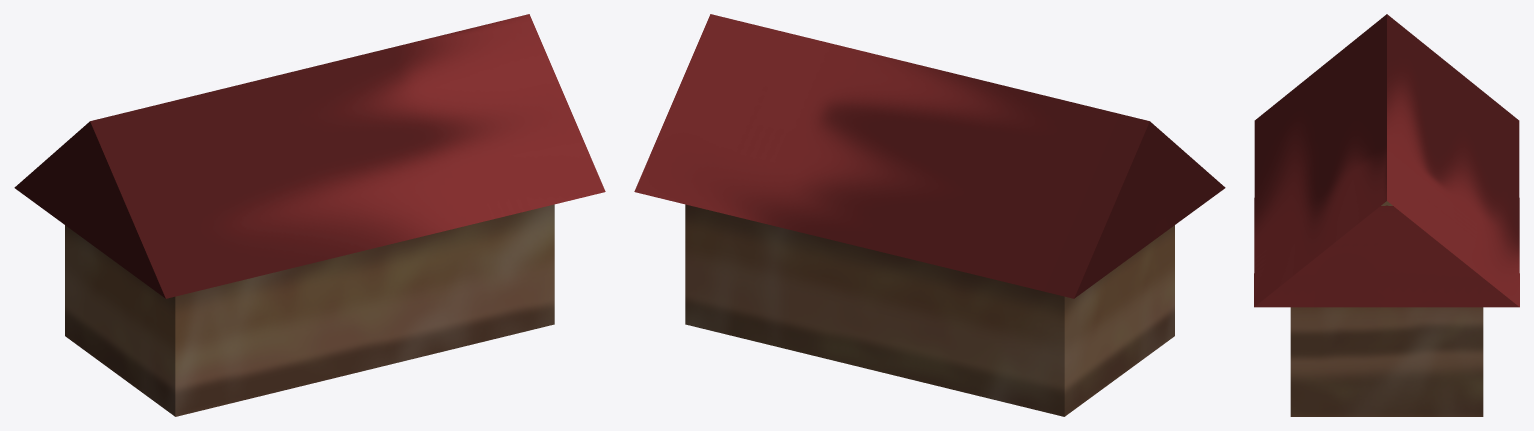
Rendered from house_exp.fbx.
3 views of the same model, side by side, from view 1: azimuth 30°, elevation 25°; view 2: azimuth 150°, elevation 25°; view 3: azimuth 270°, elevation 25° (orthographic). The views are drawn at different scales.
Visible parts, largest first — view 1: house; view 2: house; view 3: house.
Boxes of the visible parts, x1,y1,x2,y2 form: house: (14, 14, 605, 416); house: (634, 14, 1225, 416); house: (1254, 14, 1519, 416).
Size of the model in its own units: 1113 by 636 by 669.
1 material, 1 textured.
